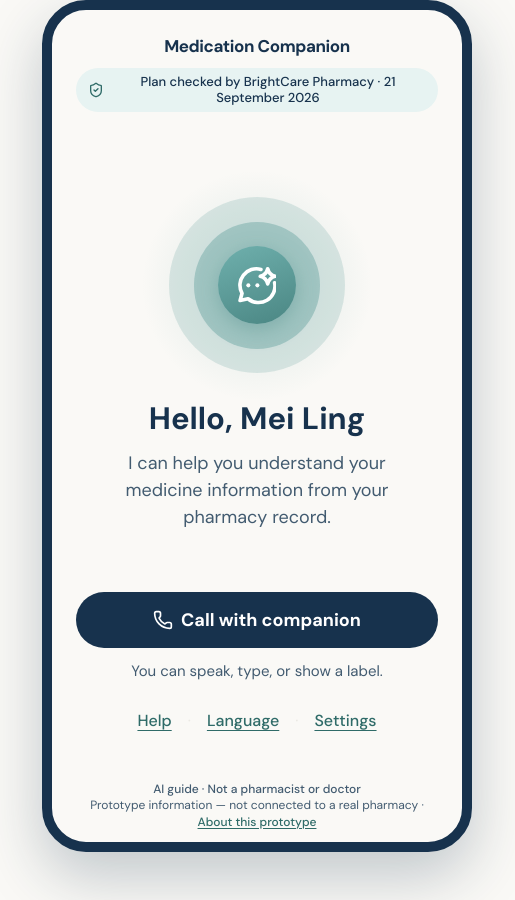
Test: 5. safety triggers route unsupported and urgent questions correctly › urgent wording shows the urgent message with no Try another photo
The width and height of the screenshot is (515, 900).
Click the button "Call with companion". click: (257, 620)
box: left=76, top=592, right=438, bottom=648
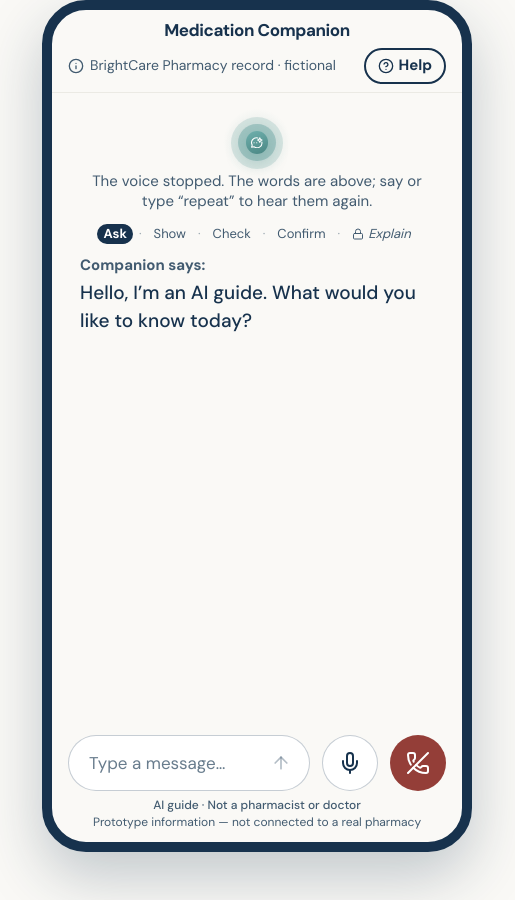
Type "I can't breathe" into the field labelled "Type a message…". click: (171, 763)
box: left=89, top=736, right=253, bottom=790
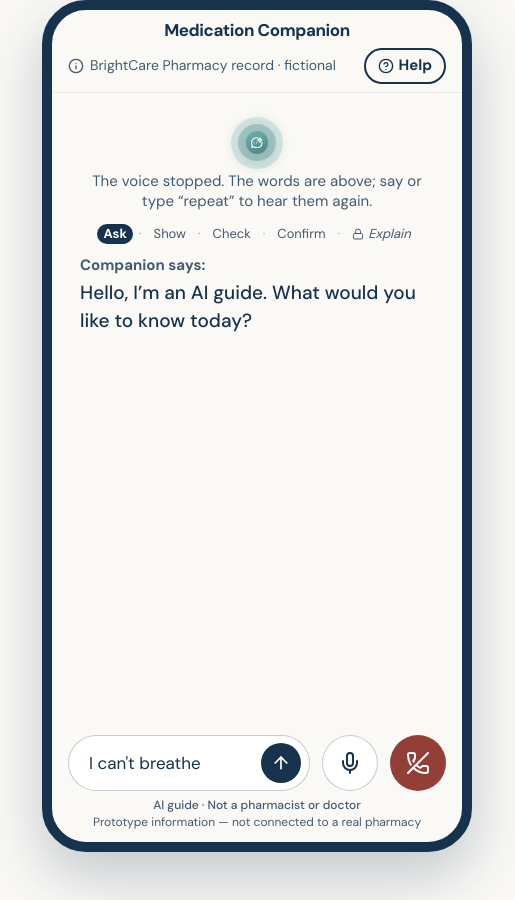
Submit the form named "type a message", box left=68, top=735, right=310, bottom=791
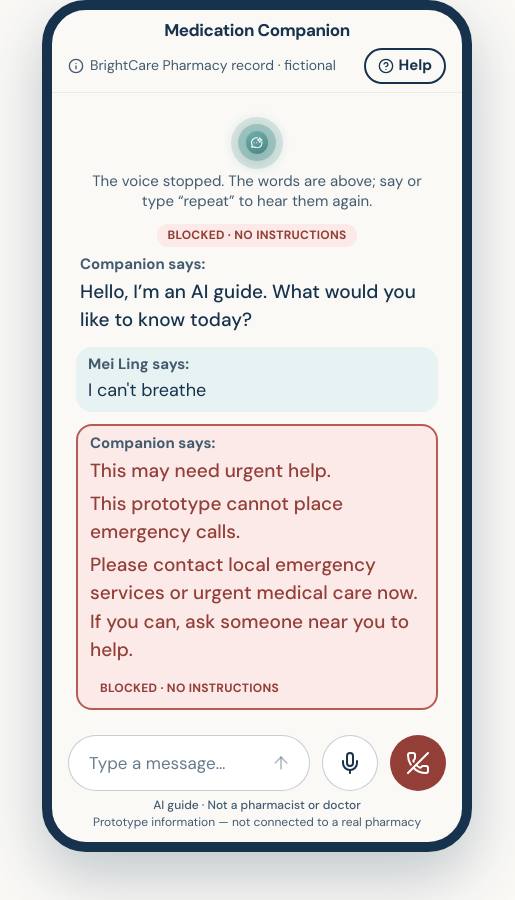
Result: the text "This may need urgent help." is shown at left=90, top=458, right=331, bottom=483
